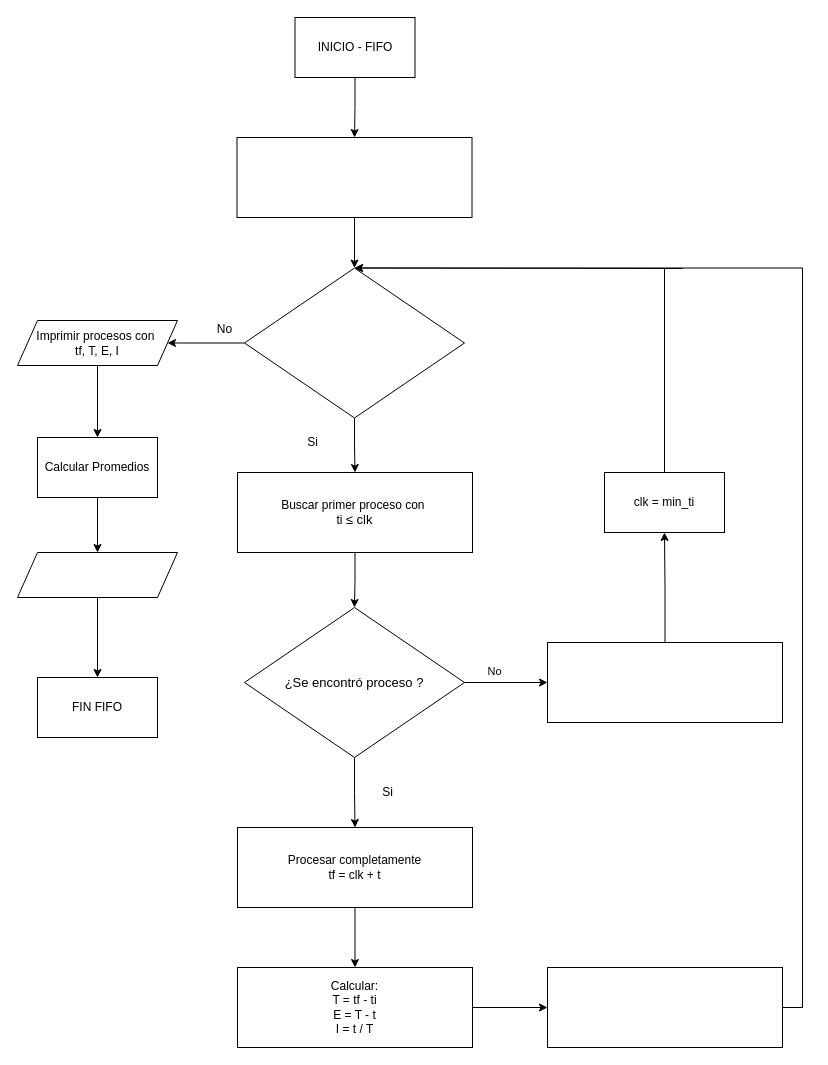
This 828x1065 diagram has some shape labels left out. The shapes that lost their labels are listed below. From the top down, each one's centre as x and y in pixels, then its label:
point 354,177: clk = 0, procesados = 0, Completados []
point 354,342: ¿Procesados < total_procesos?
point 97,575: Imprimir Promedios
point 664,682: Calcular Min_ti = mínimo tiempo de llegada pendiente
point 664,1007: Actualizar: contador procesados ++ clk = tf
